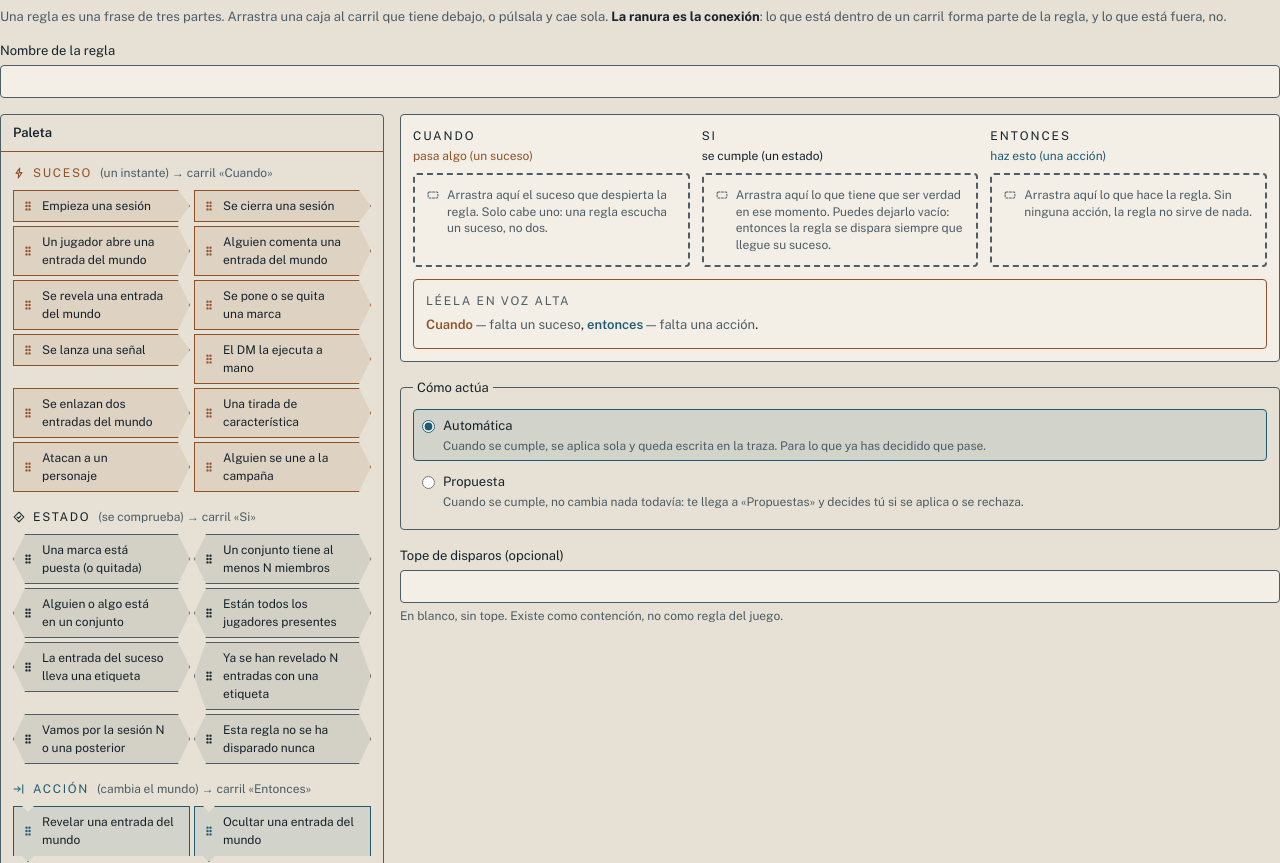
el editor de reglas por carriles › un hueco a medio rellenar dice en qué caja de qué carril está
Type "A medias" into the field labelled "Nombre de la regla".
click(640, 82); type("A medias")  # box [0,65,1279,98]
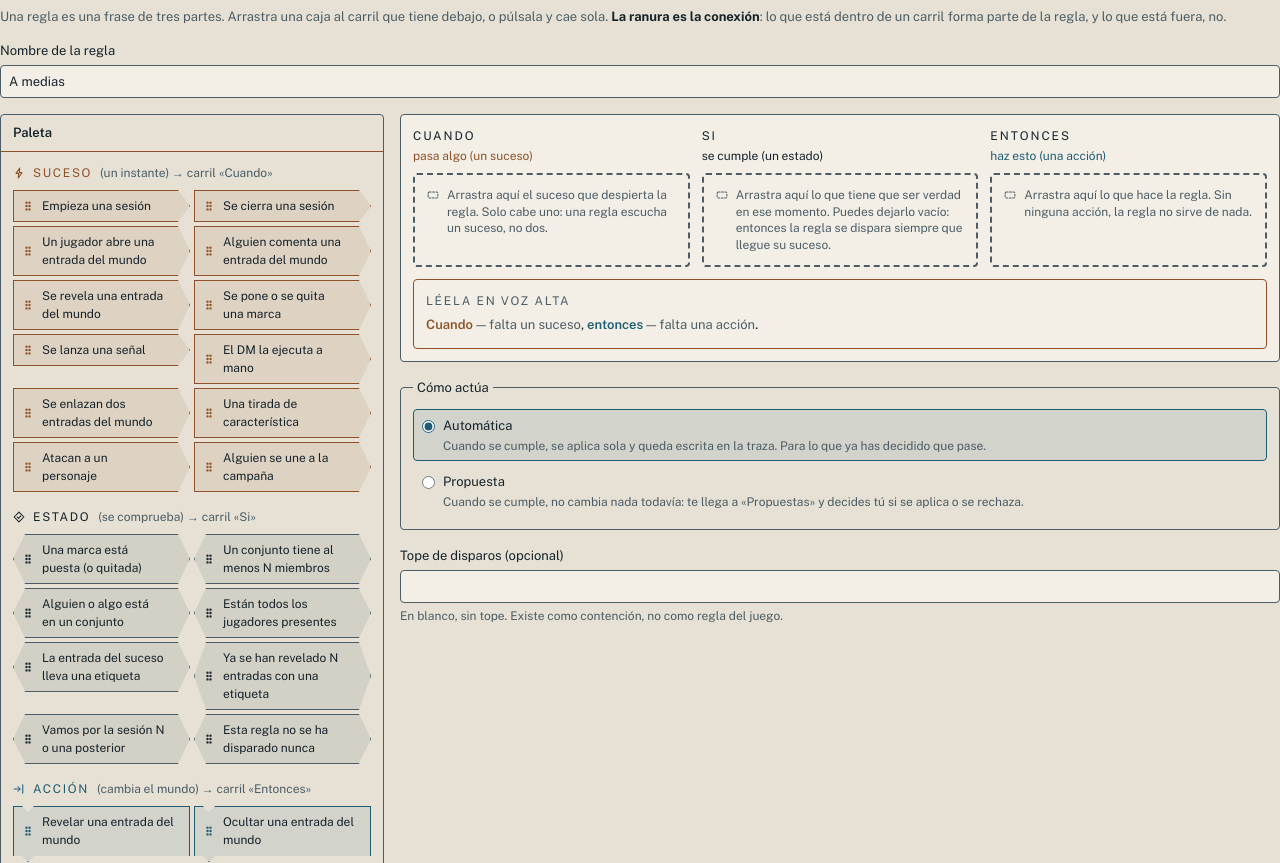
Click the button with aria-label "Empieza una sesión — poner en el carril Cuando".
click(102, 206)  # box [13,190,190,222]
(page scrolled)
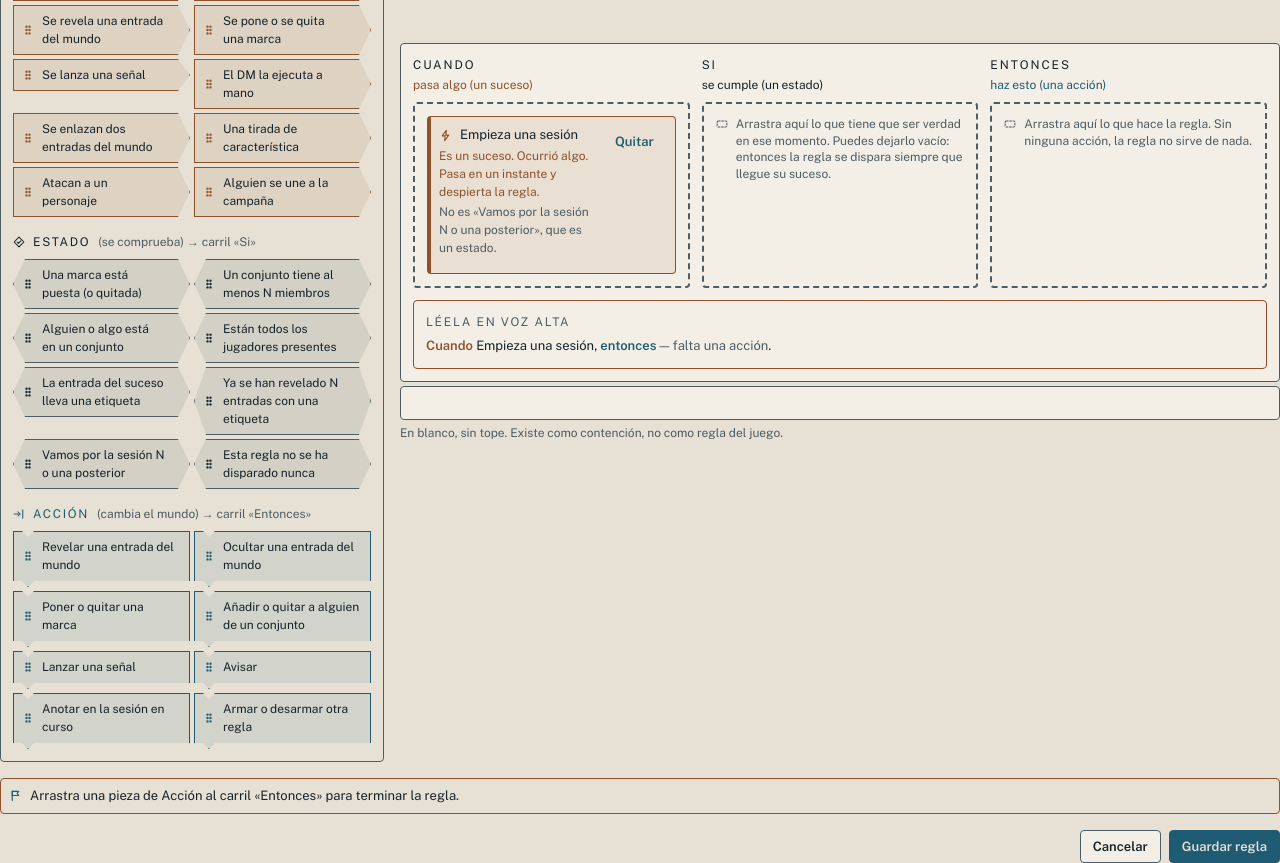
Click the button with aria-label "Revelar una entrada del mundo — poner en el carril Entonces".
click(102, 559)  # box [13,531,190,587]
(page scrolled)
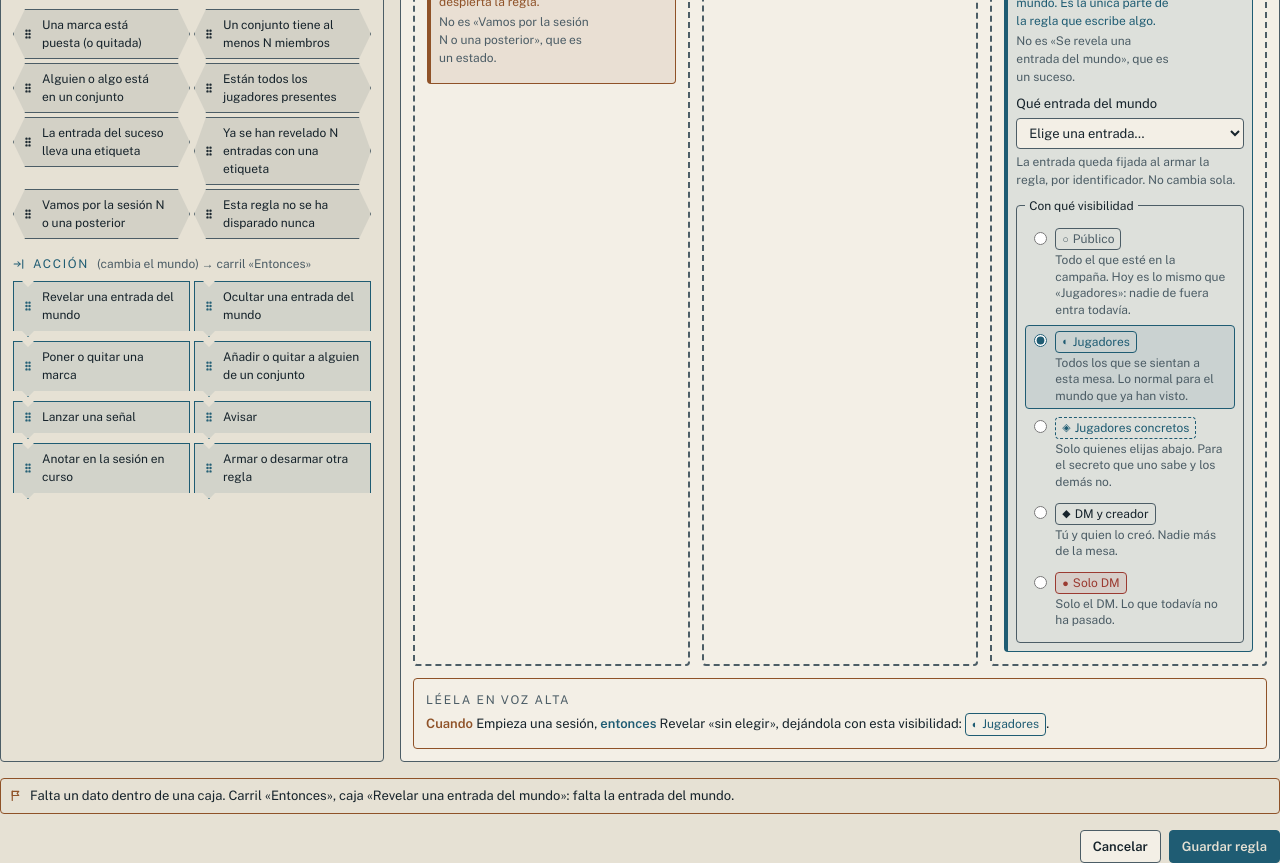
Click the button "Guardar regla".
click(1224, 847)  # box [1169,830,1279,862]
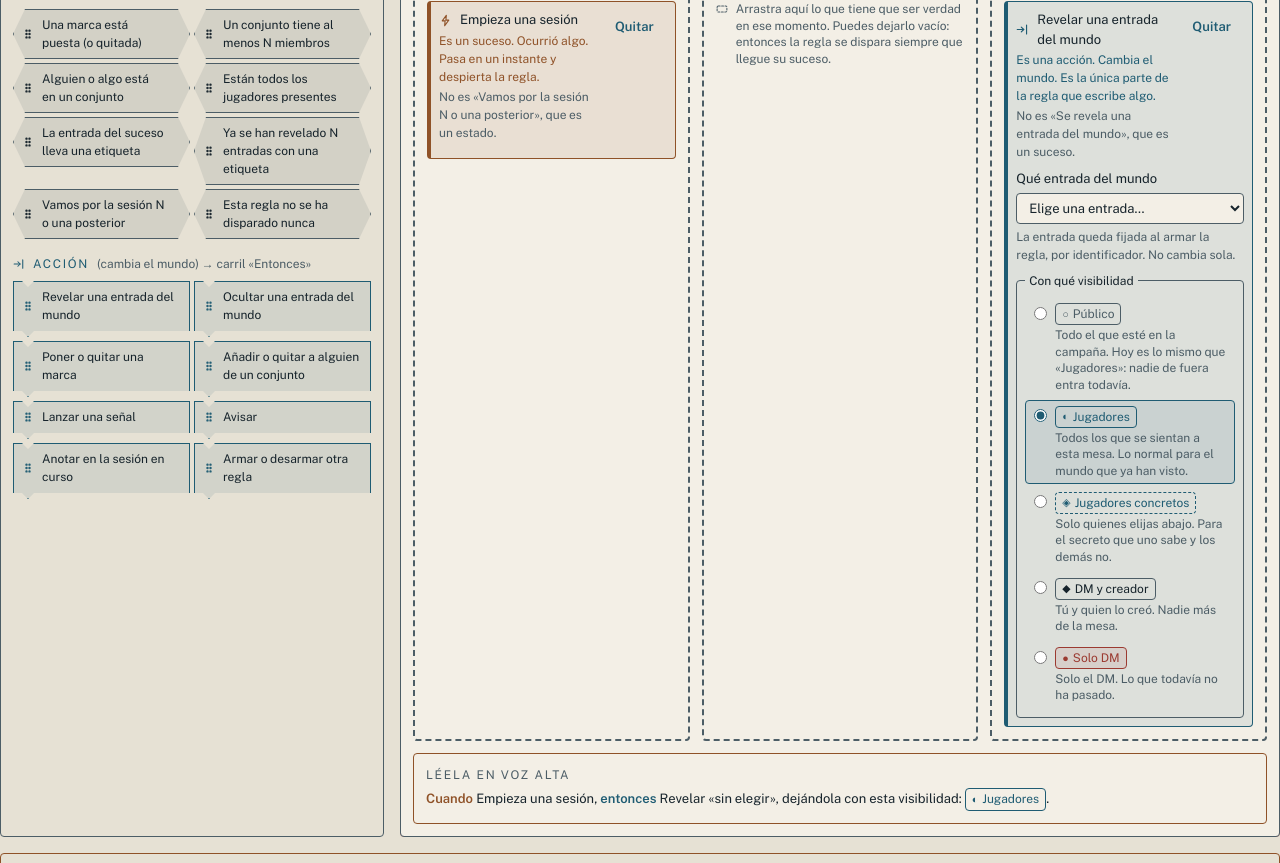
Result: the message shows "Carril «Entonces», caja «Revelar una entrada del mundo»: falta la entrada del mundo." at [433,812,900,826]
